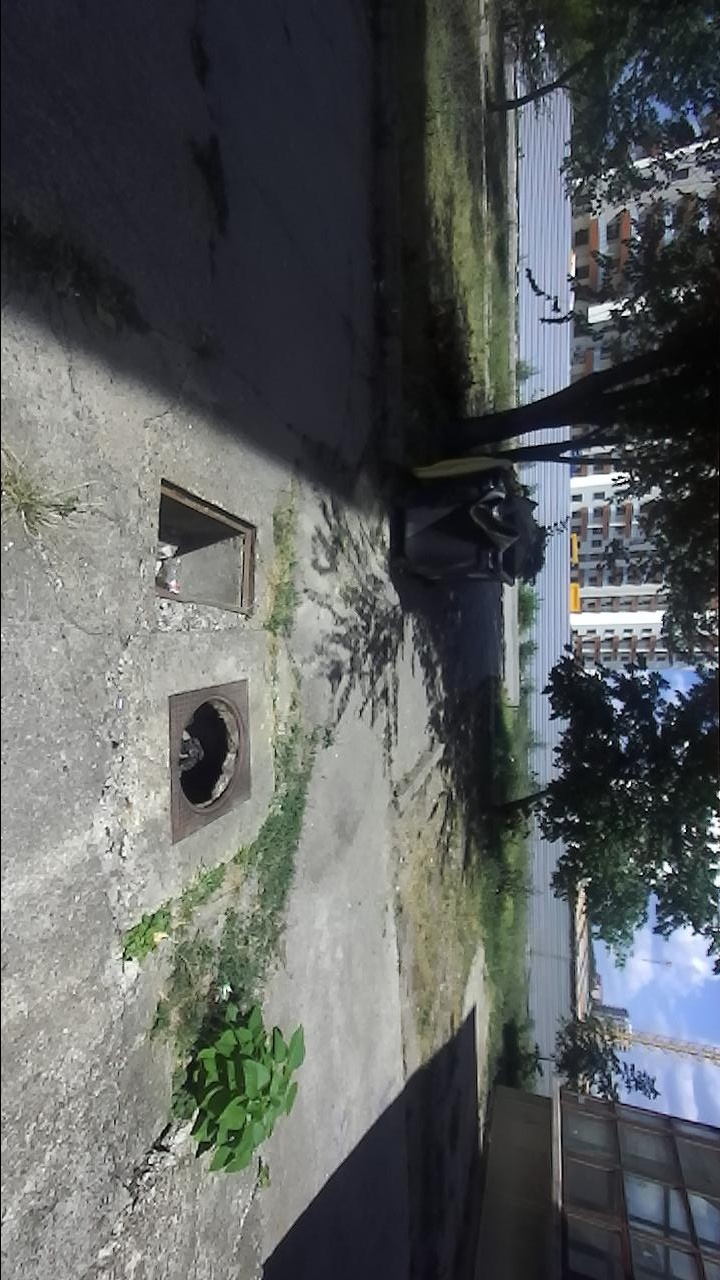drain: (147, 478, 260, 620), (174, 692, 249, 822)
